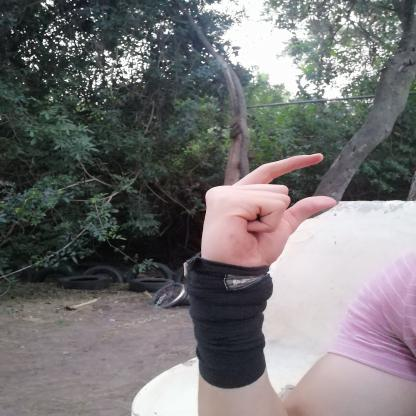DELL: (184, 146, 344, 280)
